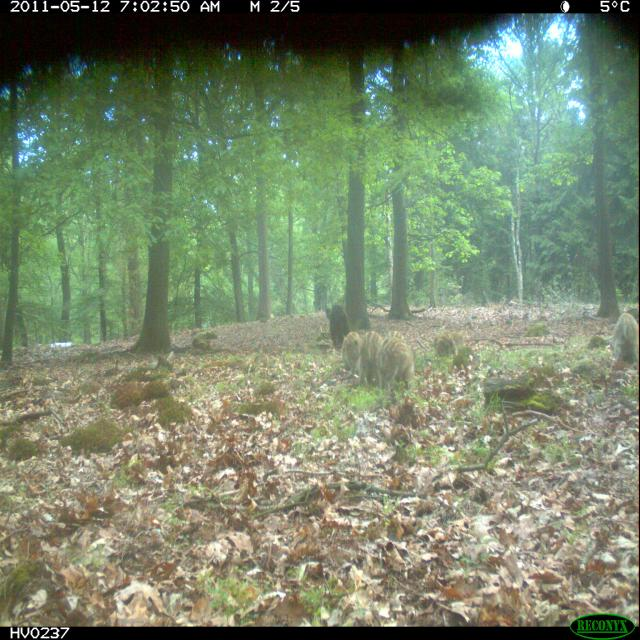boar: (598, 295, 640, 388), (369, 334, 430, 395), (355, 305, 383, 393), (325, 297, 355, 349), (339, 326, 365, 375)
